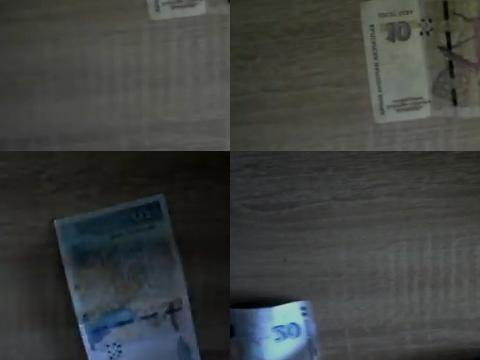20leva: (52, 193, 200, 360), (230, 299, 321, 360)
